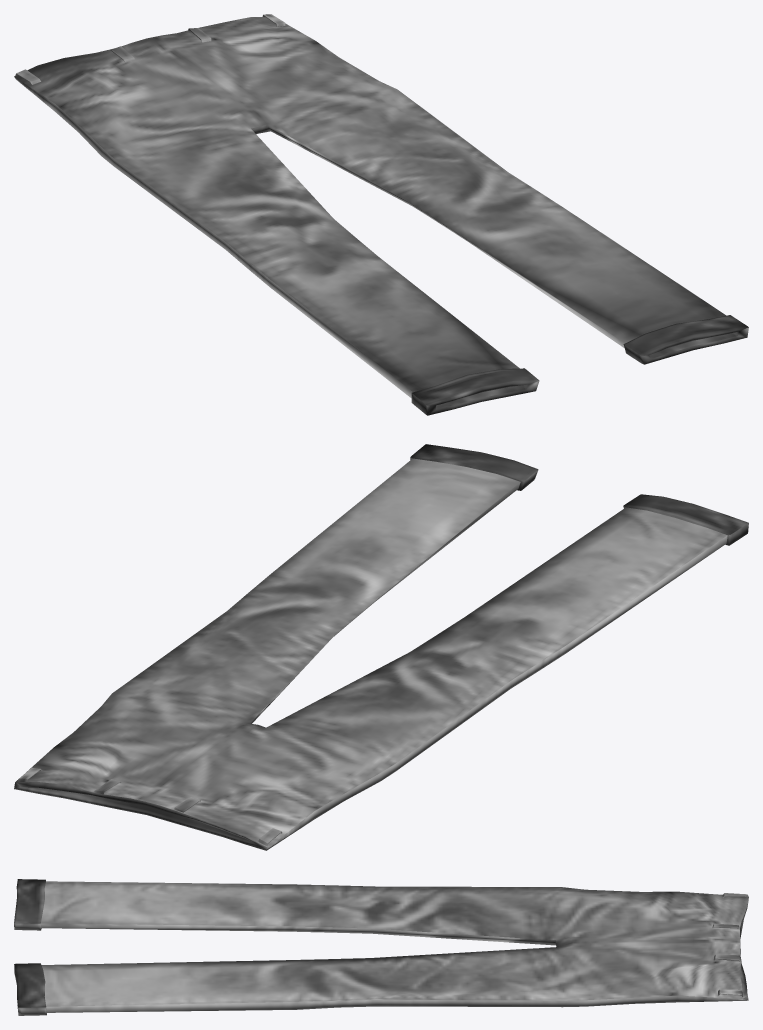
The model's file is sweethome3d-scopia-trousers.glb.
The picture shows the model from 3 angles, top to bottom: view 1: azimuth 30°, elevation 25°; view 2: azimuth 150°, elevation 25°; view 3: azimuth 270°, elevation 25°; orthographic projection. The views are drawn at different scales.
Visible parts, largest first — view 1: pantalonshadows_Plane.003, stripshadows_Plane.004; view 2: pantalonshadows_Plane.003, stripshadows_Plane.004; view 3: pantalonshadows_Plane.003, stripshadows_Plane.004.
Part boxes in pixels (box(x1,y1,x2,y2)): pantalonshadows_Plane.003: box(14, 17, 748, 415); stripshadows_Plane.004: box(15, 14, 285, 84); pantalonshadows_Plane.003: box(14, 444, 748, 850); stripshadows_Plane.004: box(17, 767, 282, 846); pantalonshadows_Plane.003: box(14, 879, 748, 1015); stripshadows_Plane.004: box(712, 893, 748, 996).
Size of the model in its own units: 40.82 by 1.97 by 98.56.
Materials: 2 (1 with a texture image).
